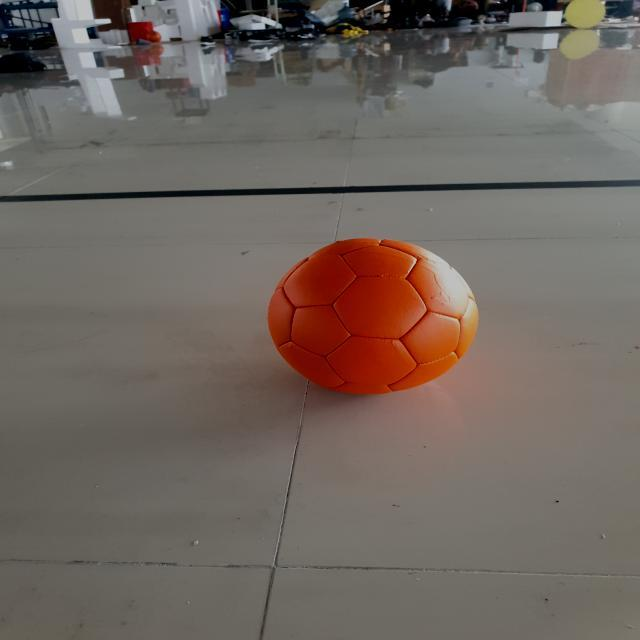bola: (258, 228, 492, 400)
